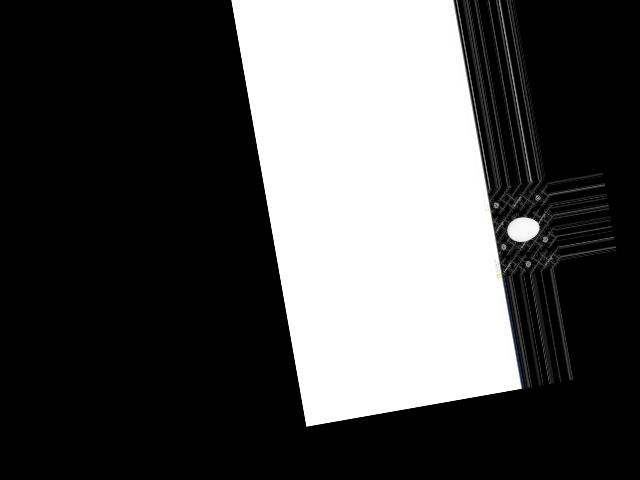egg: (505, 213, 541, 243)
